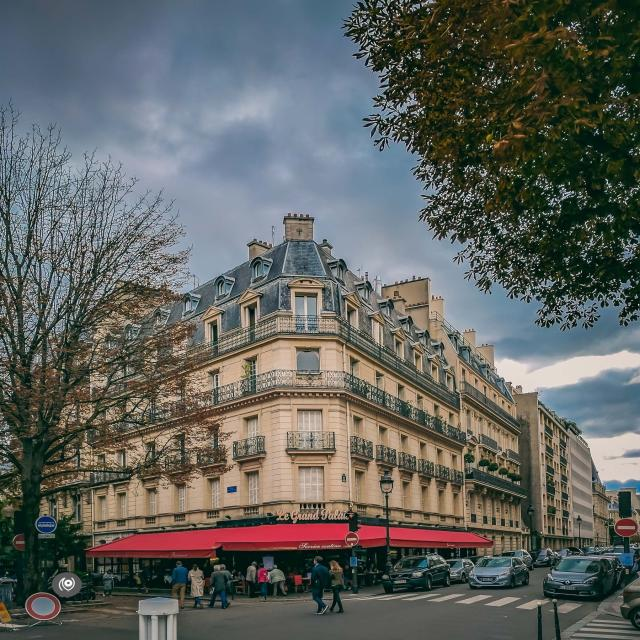body: (310, 555, 330, 616), (206, 564, 229, 609), (327, 560, 345, 614), (170, 560, 188, 610), (218, 564, 234, 608), (188, 564, 204, 608), (268, 564, 288, 596), (228, 568, 248, 595), (343, 561, 361, 591), (256, 562, 270, 599), (245, 560, 258, 598), (629, 543, 640, 581), (102, 568, 116, 597), (136, 566, 148, 594), (363, 563, 378, 584), (593, 543, 606, 549)
